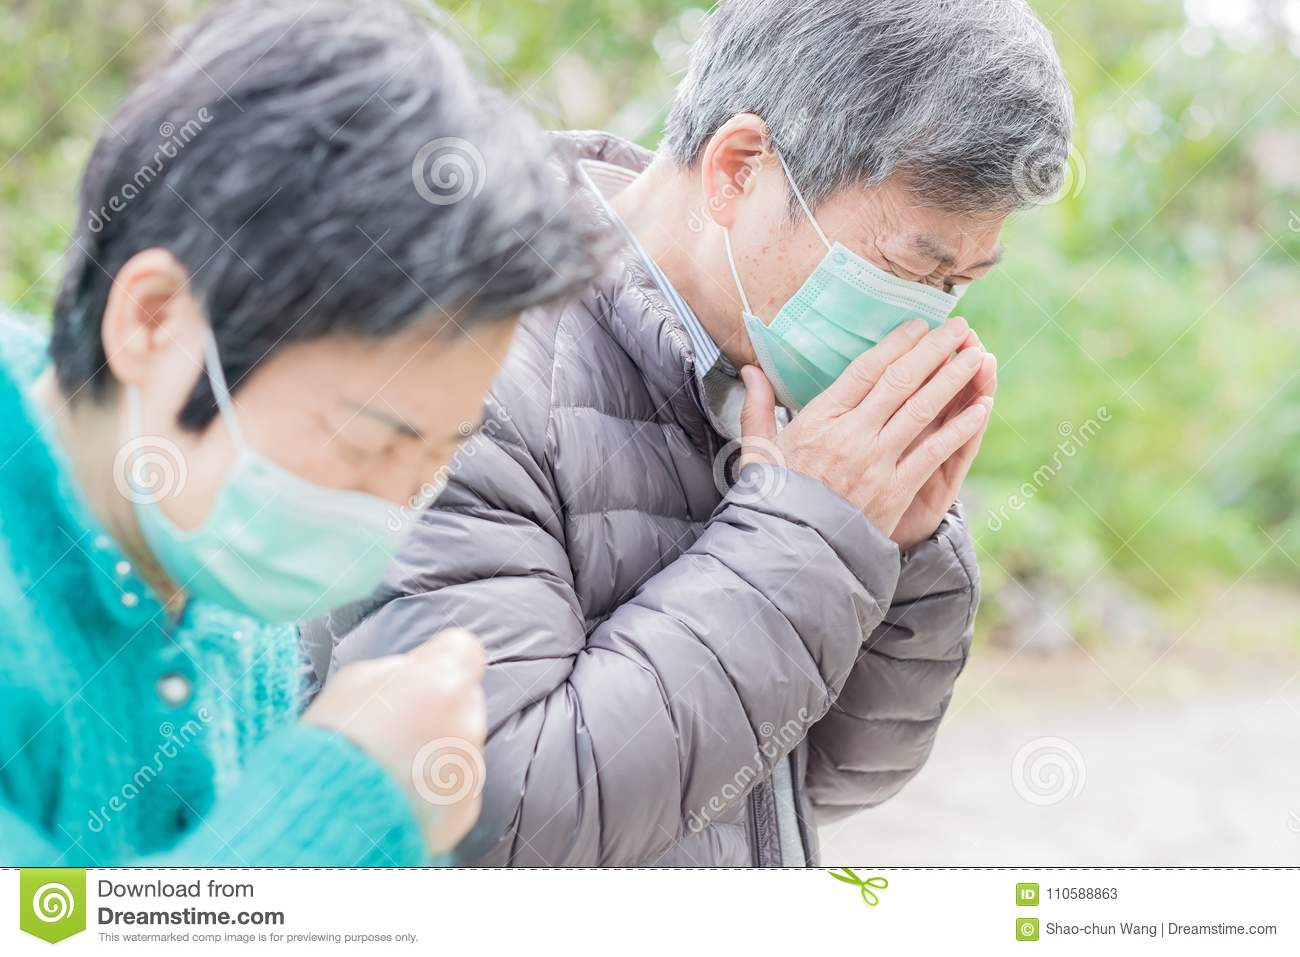mask: (166, 471, 470, 652), (751, 255, 979, 405)
